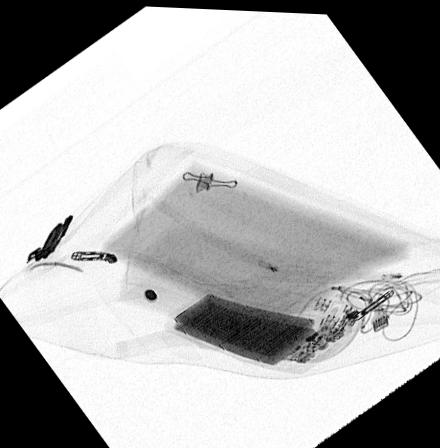Powerbank: (168, 287, 348, 366)
